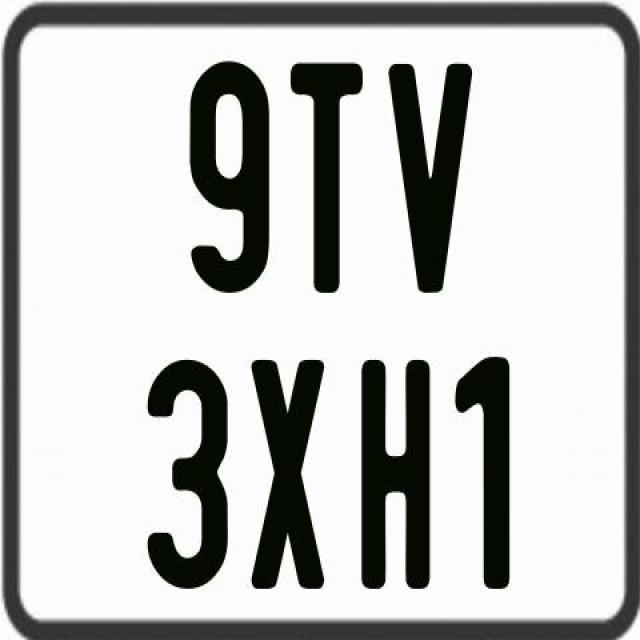1: (453, 353, 516, 592)
3: (143, 356, 230, 594)
9: (190, 58, 278, 294)
H: (362, 356, 429, 590)
T: (286, 62, 366, 298)
V: (386, 61, 470, 294)
X: (248, 355, 326, 587)
